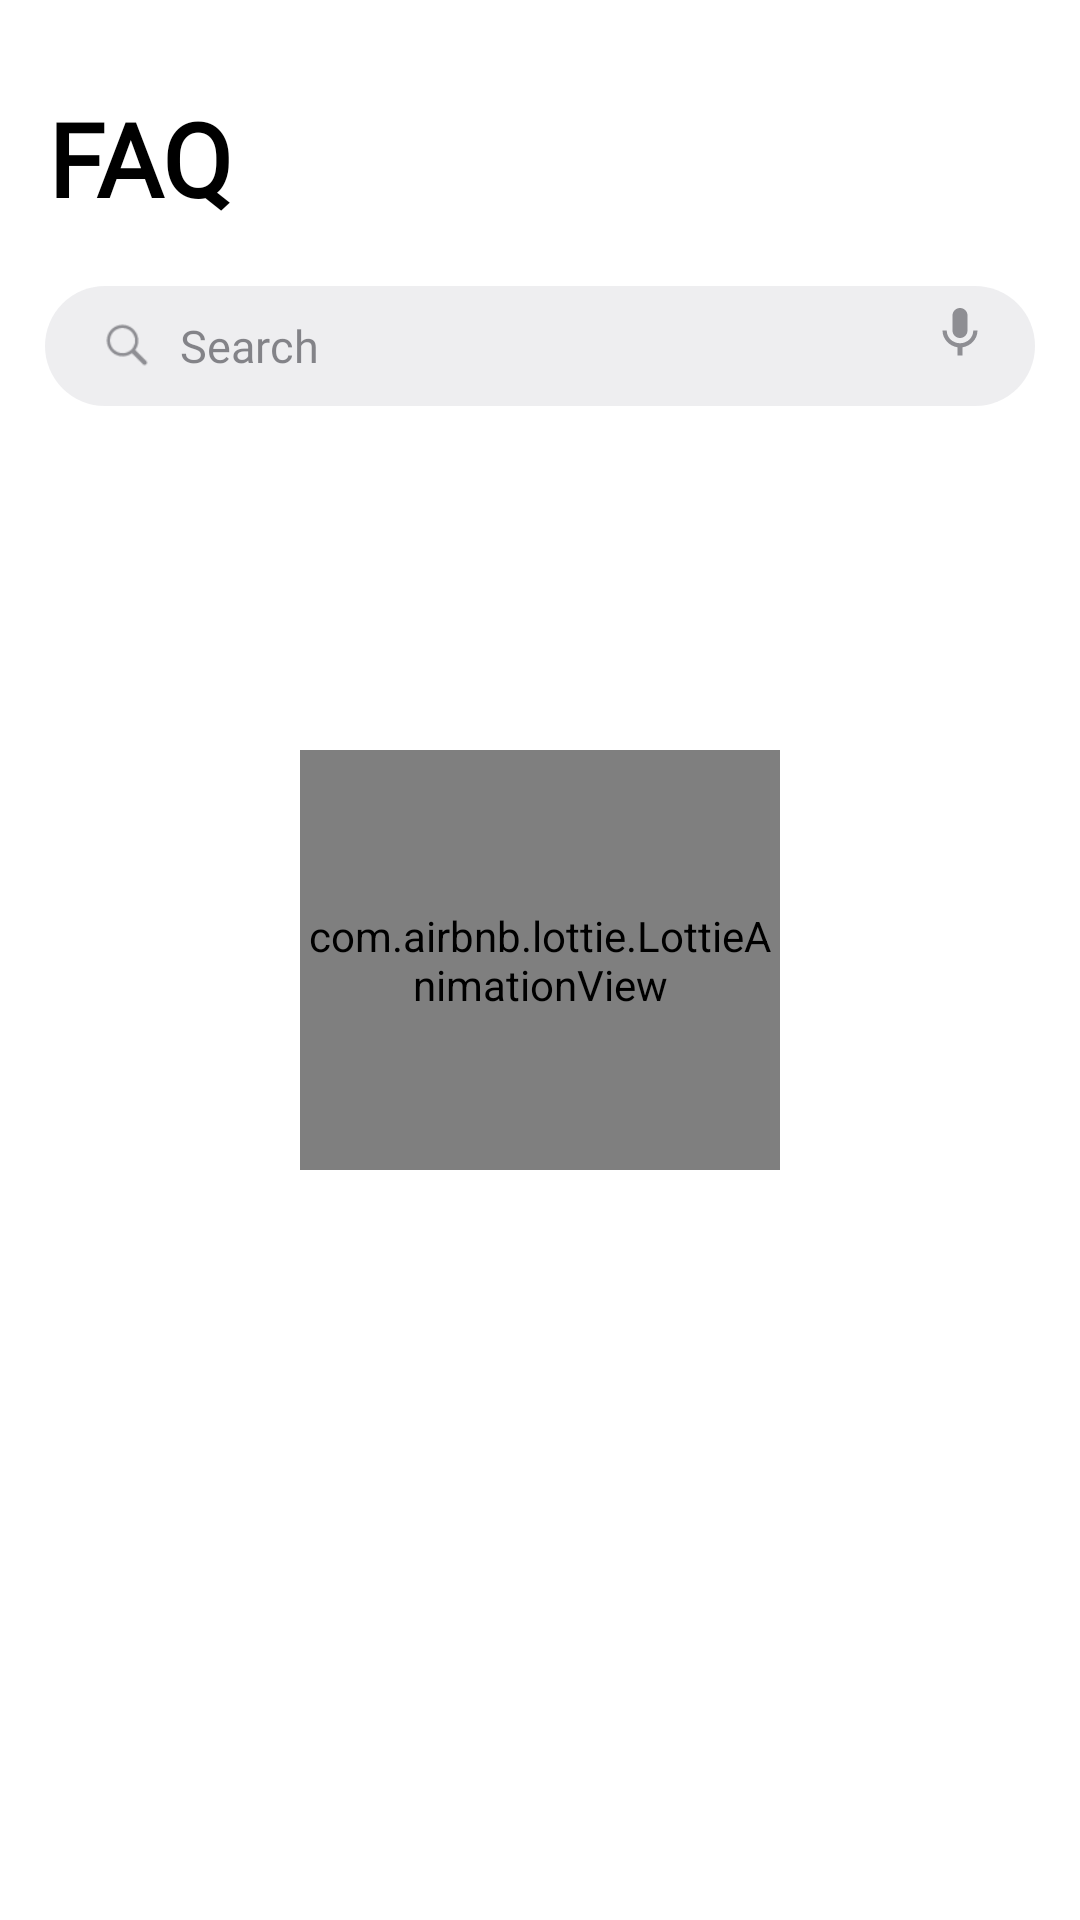

Where to tap for icons on this 1080 × 1920 app screen, as (x,y):
mic: (960,332)
